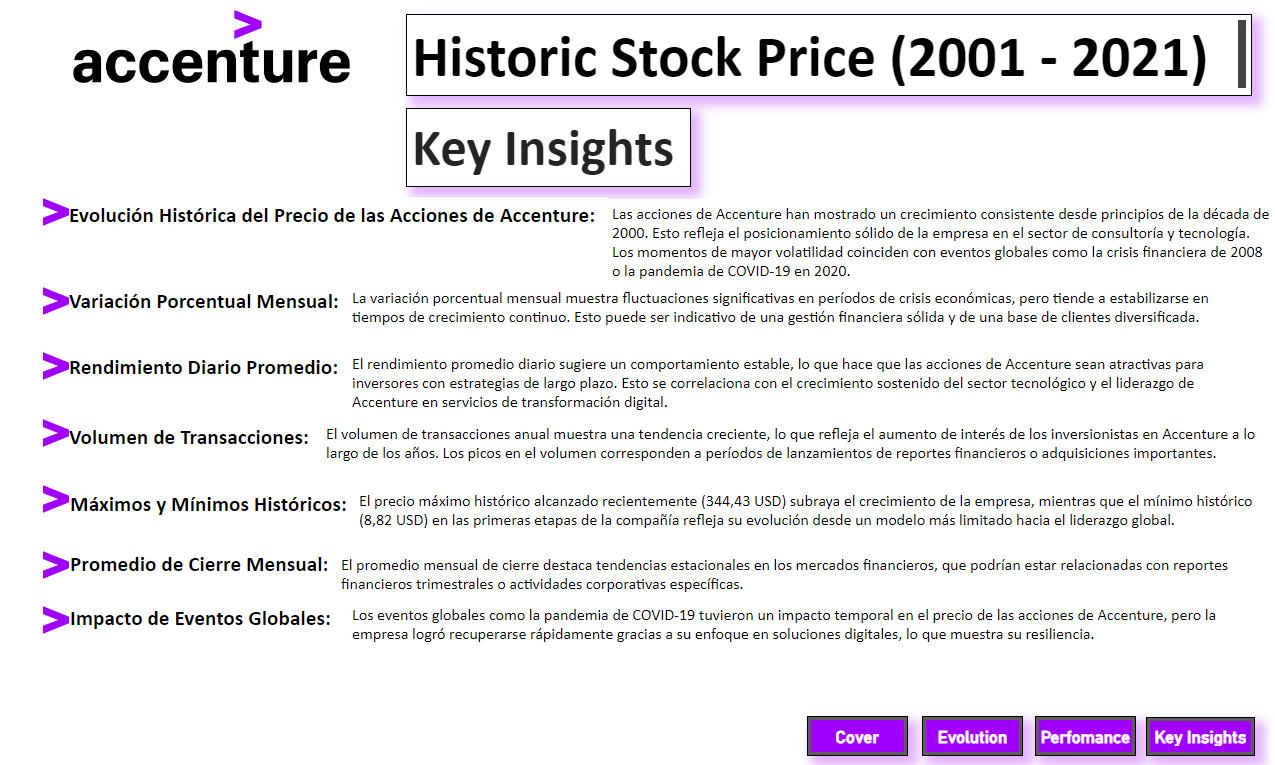

The dashboard page shown, as its layout file describes it:
{"tool":"powerbi","page":{"name":"Key Insights","canvas":[1280,770],"ordinal":3},"visuals":[{"type":"image","box":[35.9,7.6,360.9,83.7],"z":0},{"type":"textbox","box":[411.4,16.5,845.2,82.7],"z":1000},{"type":"actionButton","title":"Cover","box":[1039.8,719.3,101.2,39.8],"z":2000},{"type":"actionButton","title":"Cover","box":[926.5,719.3,101.2,39.8],"z":3000},{"type":"actionButton","title":"Cover","box":[812,719.3,101.2,39.8],"z":4000},{"type":"textbox","box":[411.1,111.1,284.4,78.9],"z":5000},{"type":"textbox","box":[69,200,544,68],"z":6000},{"type":"textbox","box":[612.2,202.2,667.8,94.4],"z":7000},{"type":"textbox","box":[69,286,283,66],"z":8000},{"type":"textbox","box":[352.2,285.6,918.9,66.7],"z":9000},{"type":"textbox","box":[68.9,352.2,296.7,53.3],"z":10000},{"type":"textbox","box":[352.2,352.2,918.9,84.4],"z":11000},{"type":"textbox","box":[68.9,422.2,267.8,54.4],"z":12000},{"type":"textbox","box":[325.6,422.2,954.4,66.7],"z":13000},{"type":"textbox","box":[70,488.9,295.6,54.4],"z":14000},{"type":"textbox","box":[358.9,488.9,912.2,72.2],"z":15000},{"type":"textbox","box":[70,548.9,295.6,54.4],"z":16000},{"type":"textbox","box":[341.1,553.3,918.9,70],"z":17000},{"type":"textbox","box":[70,603.3,272.2,82.2],"z":18000},{"type":"textbox","box":[352.2,603.3,914.4,66.7],"z":19000},{"type":"image","box":[35.6,190,50,50],"z":20000},{"type":"image","box":[35.6,411.1,50,50],"z":21000},{"type":"image","box":[35.6,476.7,50,50],"z":22000},{"type":"image","box":[35.6,543.3,50,50],"z":23000},{"type":"image","box":[35.6,597.8,50,50],"z":24000},{"type":"image","box":[35.6,344.4,50,50],"z":25000},{"type":"image","box":[35.6,278.9,50,50],"z":26000},{"type":"actionButton","title":"Key Insights","box":[1150.8,719.5,109.4,39.8],"z":27000}]}

Visuals, with their boxes in screenshot pixels (x1, y1, x2, y2), scaled from the page's 1280x770 canvas onto the 1275x765 screenshot:
image: bbox(36, 8, 395, 91)
textbox: bbox(410, 16, 1252, 99)
"Cover" actionButton: bbox(1036, 715, 1137, 754)
"Cover" actionButton: bbox(923, 715, 1024, 754)
"Cover" actionButton: bbox(809, 715, 910, 754)
textbox: bbox(409, 110, 693, 189)
textbox: bbox(69, 199, 611, 266)
textbox: bbox(610, 201, 1274, 295)
textbox: bbox(69, 284, 351, 350)
textbox: bbox(351, 284, 1266, 350)
textbox: bbox(69, 350, 364, 403)
textbox: bbox(351, 350, 1266, 434)
textbox: bbox(69, 419, 335, 474)
textbox: bbox(324, 419, 1274, 486)
textbox: bbox(70, 486, 364, 540)
textbox: bbox(357, 486, 1266, 557)
textbox: bbox(70, 545, 364, 599)
textbox: bbox(340, 550, 1255, 619)
textbox: bbox(70, 599, 341, 681)
textbox: bbox(351, 599, 1262, 666)
image: bbox(35, 189, 85, 238)
image: bbox(35, 408, 85, 458)
image: bbox(35, 474, 85, 523)
image: bbox(35, 540, 85, 589)
image: bbox(35, 594, 85, 644)
image: bbox(35, 342, 85, 392)
image: bbox(35, 277, 85, 327)
"Key Insights" actionButton: bbox(1146, 715, 1255, 754)
